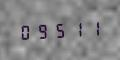five: (52, 20, 68, 39)
nine: (35, 21, 51, 40)
one: (69, 19, 85, 38), (86, 18, 102, 37)
zero: (18, 22, 34, 41)
